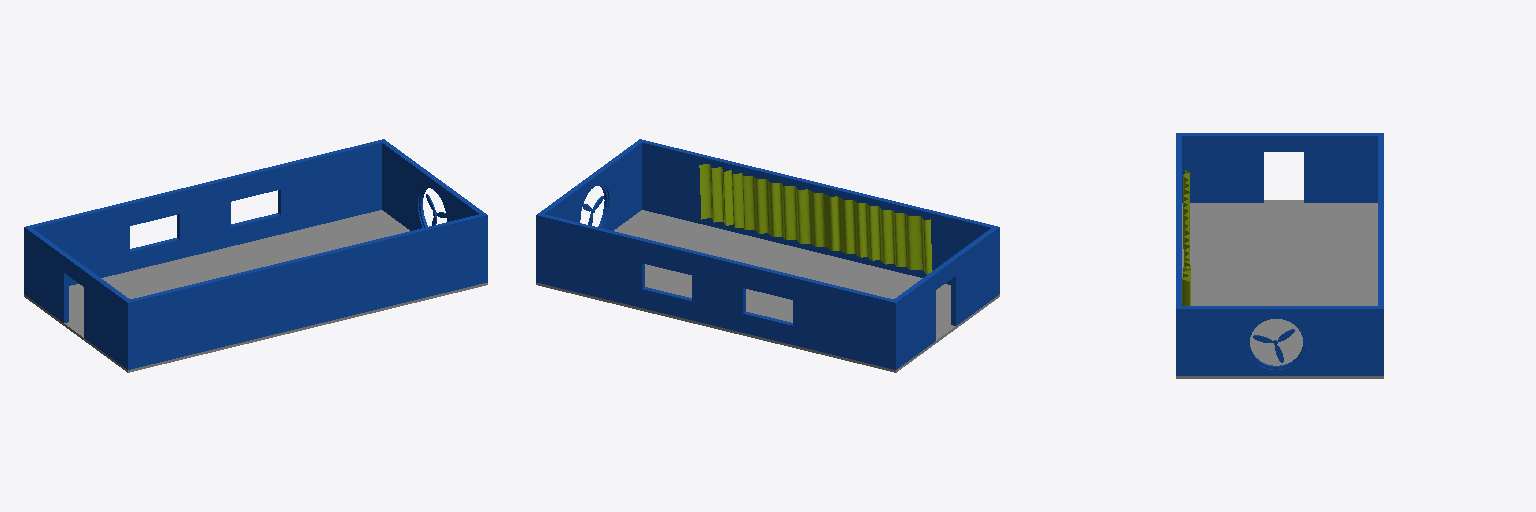
The model's file is green6.obj.
3 views of the same model, side by side, from view 1: azimuth 30°, elevation 25°; view 2: azimuth 150°, elevation 25°; view 3: azimuth 270°, elevation 25° (orthographic).
Parts seen in each view (by area): view 1: Rectangle001, Rectangle002; view 2: Rectangle001, Loft001, Rectangle002; view 3: Rectangle001, Rectangle002, Loft001.
Part boxes in pixels (x1,y1,x2,y2): Rectangle001: (24,139,487,369); Rectangle002: (24,210,487,372); Rectangle001: (536,139,999,369); Loft001: (699,164,932,274); Rectangle002: (536,210,999,372); Rectangle001: (1176,133,1383,375); Rectangle002: (1176,200,1383,378); Loft001: (1182,170,1190,305).
Size of the model in its own units: 140 by 26 by 70.